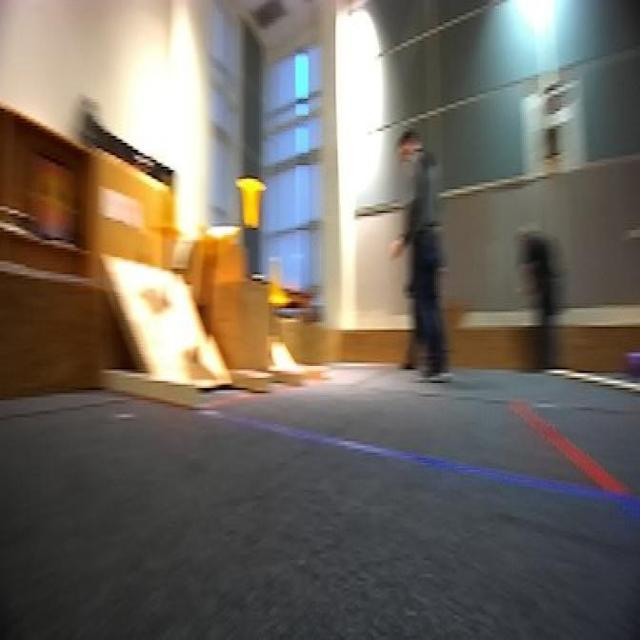frc_cone: (147, 176, 181, 243), (195, 223, 237, 274), (236, 176, 264, 233), (268, 255, 293, 310)
frc_cube: (620, 354, 638, 383)
